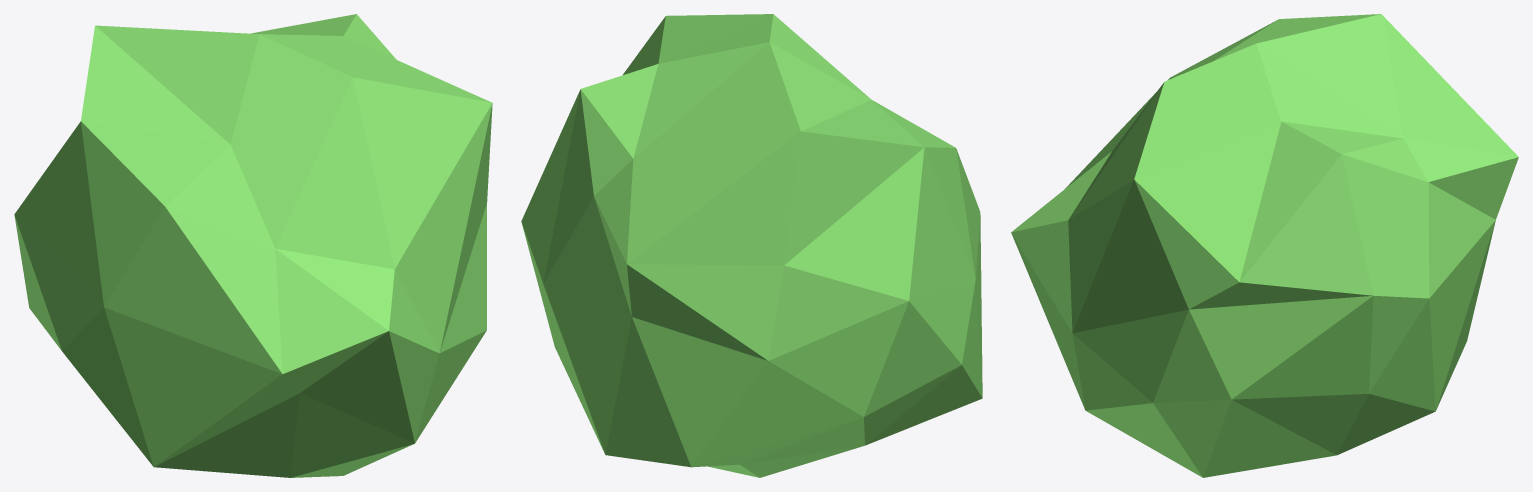
Rendered from bush2.fbx.
The picture shows the model from 3 angles, left to right: view 1: azimuth 30°, elevation 25°; view 2: azimuth 150°, elevation 25°; view 3: azimuth 270°, elevation 25°; orthographic projection. The views are drawn at different scales.
Visible parts, largest first — view 1: bush2; view 2: bush2; view 3: bush2.
Boxes of the visible parts, x1,y1,x2,y2 form: bush2: (14,14,492,477); bush2: (521,14,982,477); bush2: (1011,14,1518,477).
Size of the model in its own units: 135 by 142 by 158.
